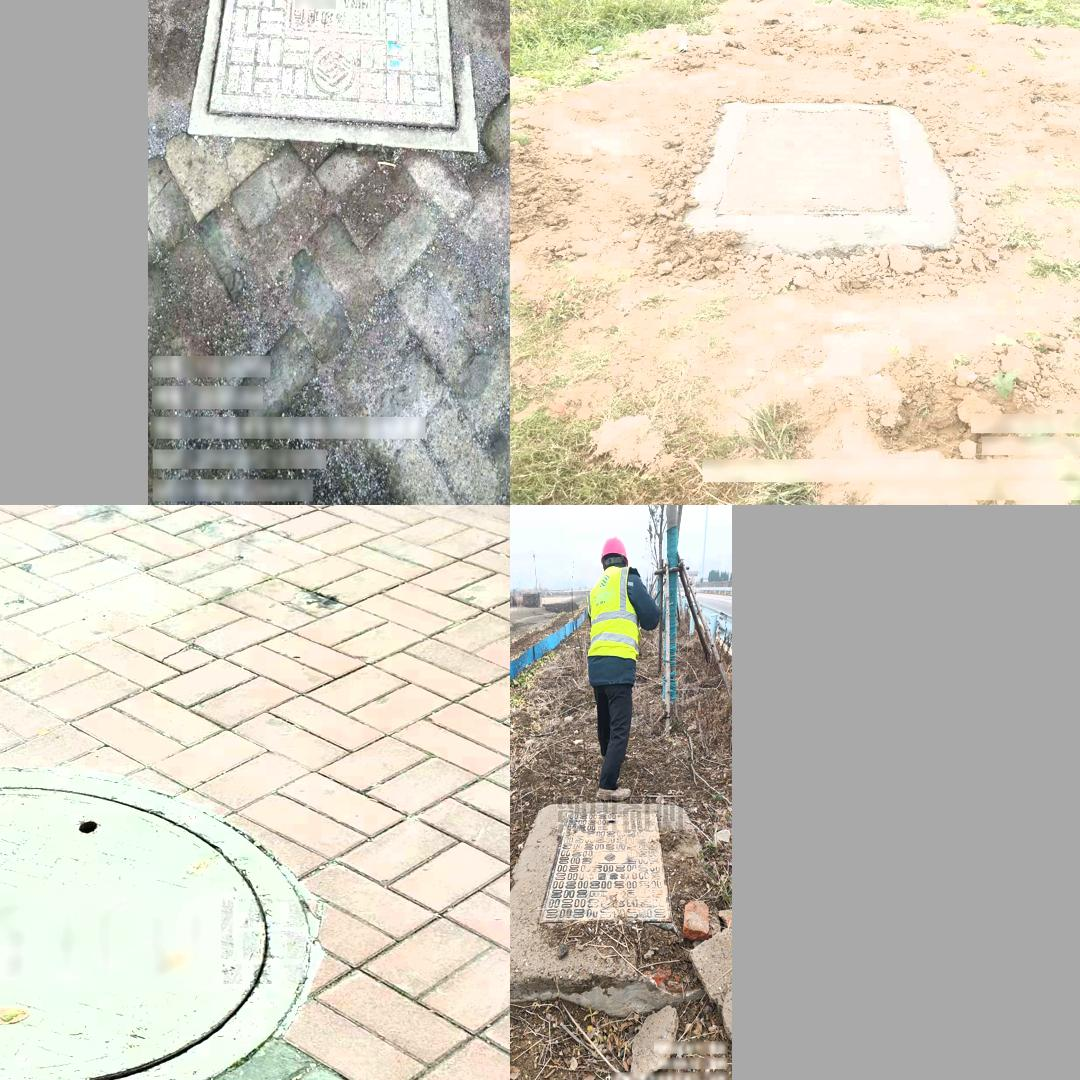good: (0, 777, 328, 1080), (186, 0, 477, 156), (709, 94, 915, 229), (537, 808, 671, 924)
